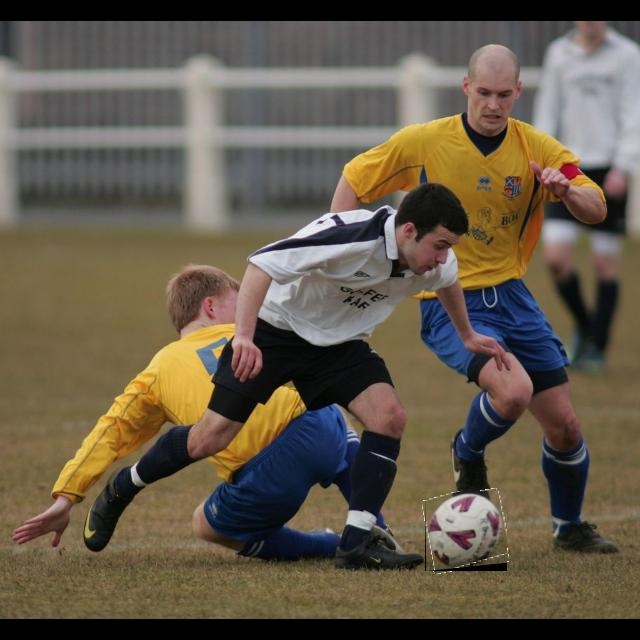Football: (425, 491, 507, 571)
